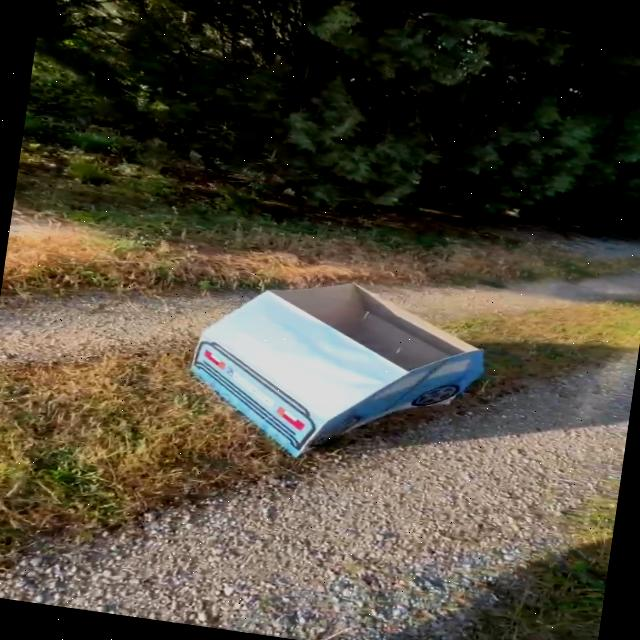blue_car: (95, 218, 575, 503)
